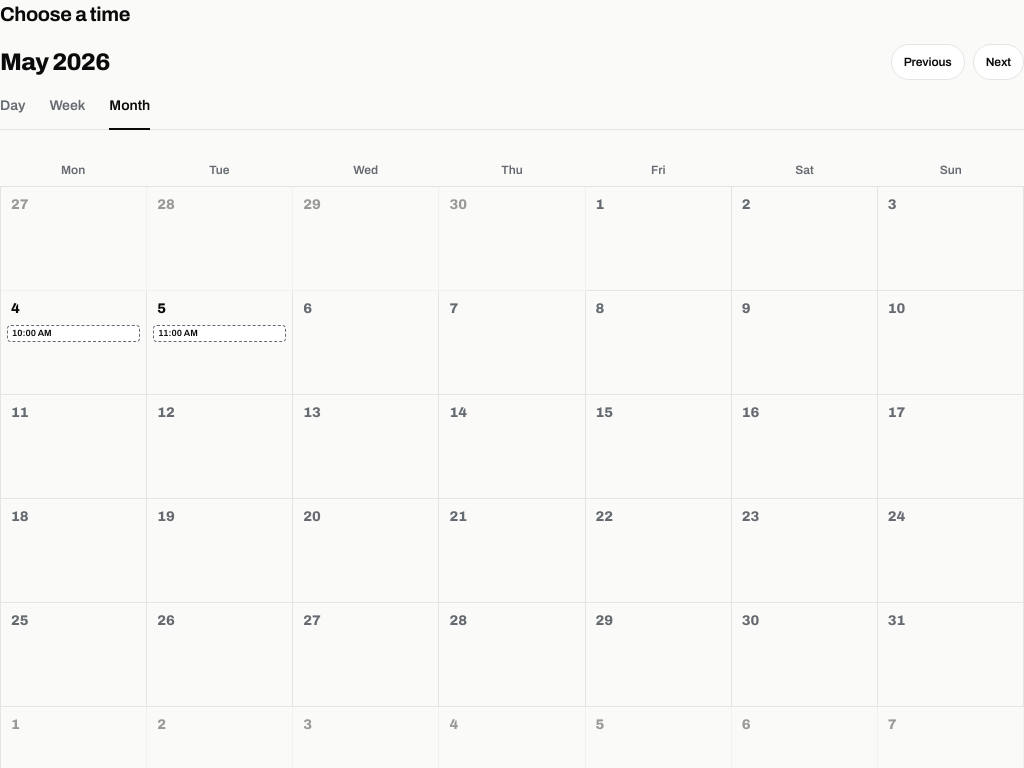
Test: BookingForm lesson type filter › resolves the lesson from the slot that was picked
Step 1. Click the button "11:00 AM" → [220, 334], box [153,325,286,342]
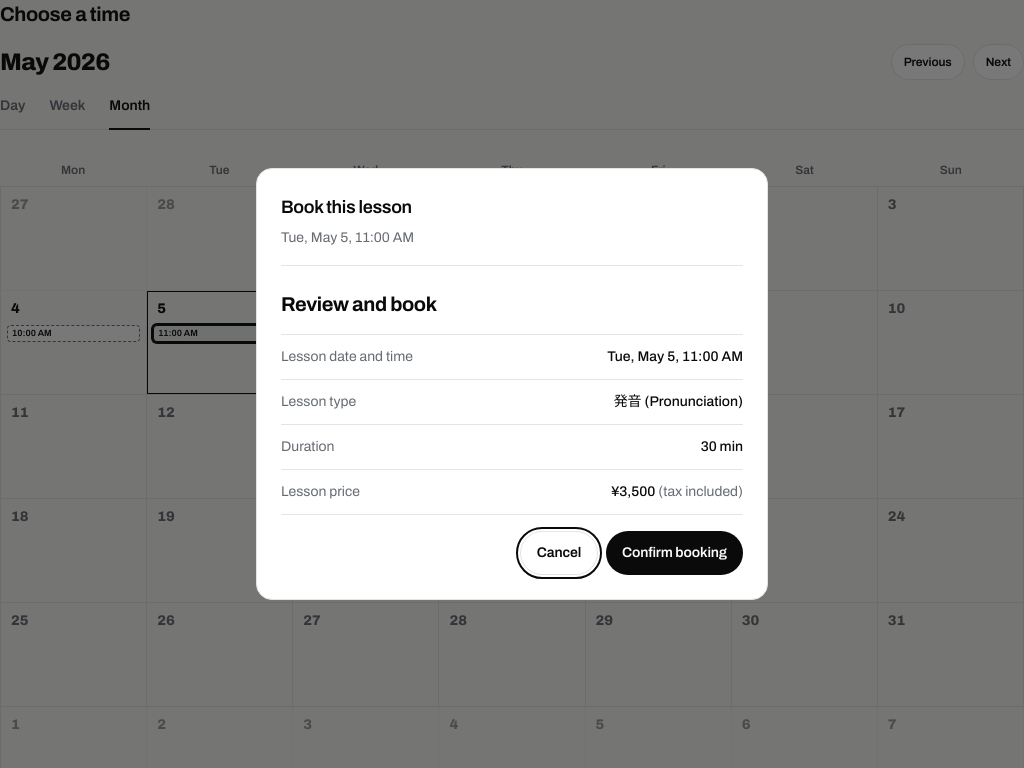
Expected: the heading "Book this lesson" is shown, [281,197,412,217]
Expected: the text "Lesson type" reads "Lesson type 発音 (Pronunciation)", [614,394,743,409]
